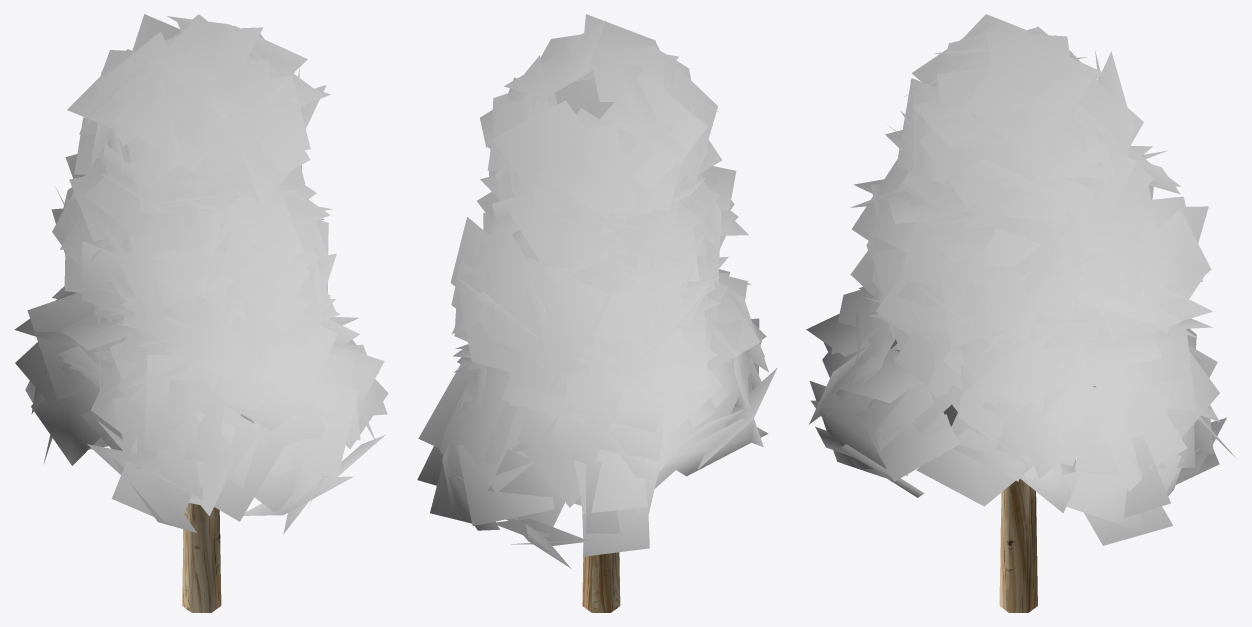
Rendered from tree3.fbx.
3 renders of one model, left to right at view 1: azimuth 30°, elevation 25°; view 2: azimuth 150°, elevation 25°; view 3: azimuth 270°, elevation 25°, orthographic. The views are drawn at different scales.
Visible parts, largest first — view 1: Plane.330; view 2: Plane.330; view 3: Plane.330.
Boxes of the visible parts, bbox=[...] form: Plane.330: bbox=[14, 14, 388, 612]; Plane.330: bbox=[417, 14, 777, 612]; Plane.330: bbox=[806, 14, 1236, 612].
Size of the model in its own units: 277 by 585 by 395.
